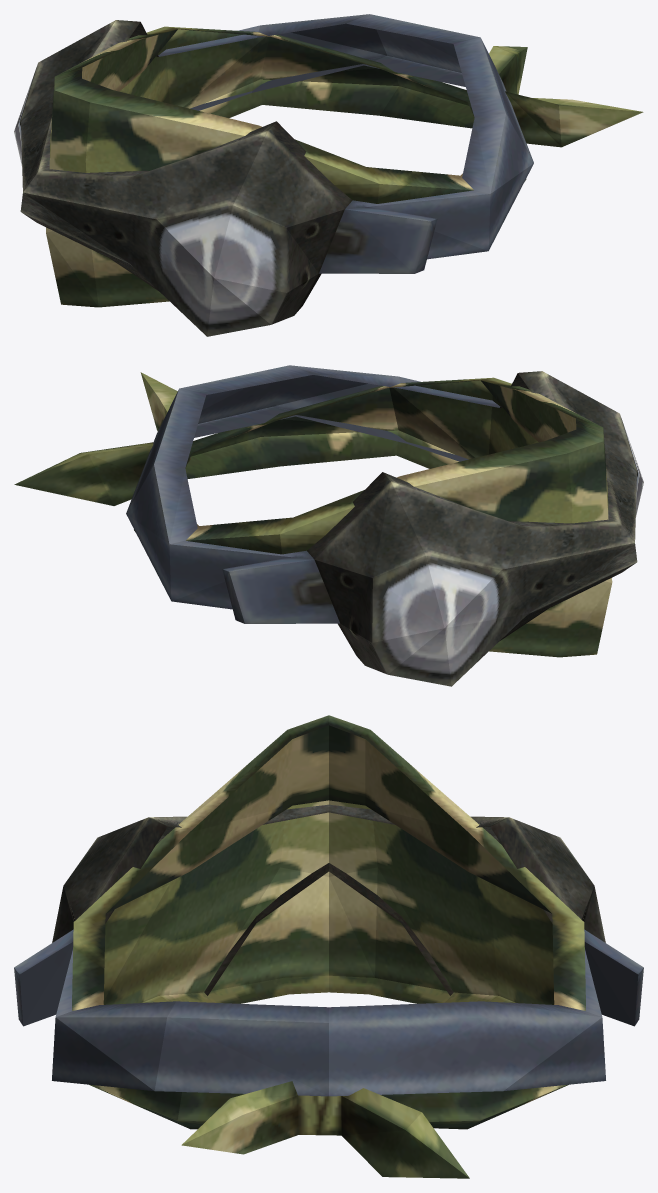
File: Chameleon_summerGoggle.obj
3 views of the same model, one above another, from view 1: azimuth 30°, elevation 25°; view 2: azimuth 150°, elevation 25°; view 3: azimuth 270°, elevation 25° (orthographic). The views are drawn at different scales.
Visible parts, largest first — view 1: Chameleon_summerGoggle_tri; view 2: Chameleon_summerGoggle_tri; view 3: Chameleon_summerGoggle_tri.
Boxes of the visible parts, bbox=[...] form: Chameleon_summerGoggle_tri: bbox=[14, 14, 643, 336]; Chameleon_summerGoggle_tri: bbox=[14, 365, 643, 686]; Chameleon_summerGoggle_tri: bbox=[14, 715, 643, 1178].
Bounding box in the file's own units: 0.4089 × 0.1526 × 0.3314.
1 material, 1 textured.
